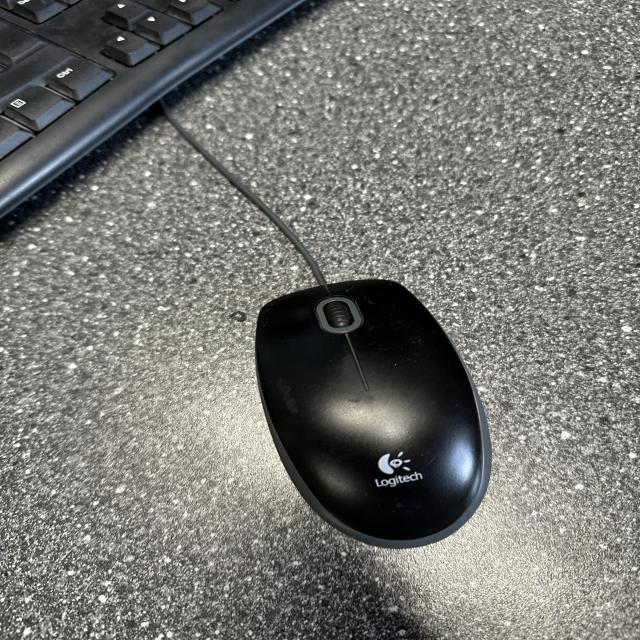mysz: (248, 266, 500, 554)
